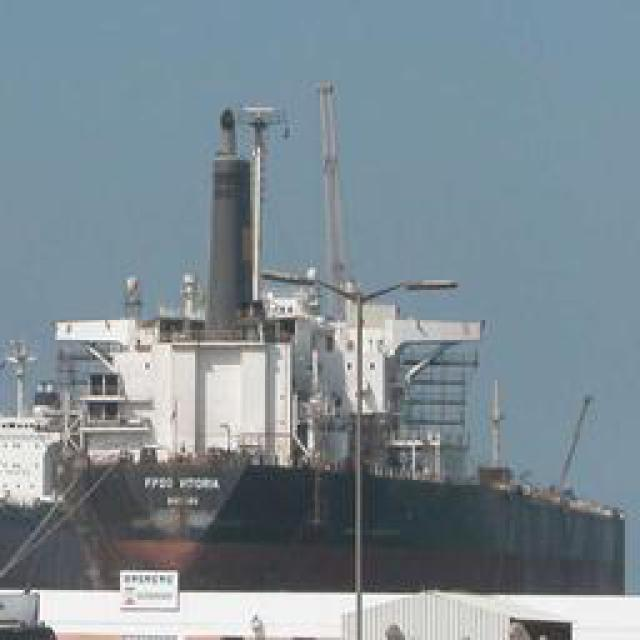Ship: (31, 73, 635, 604)
